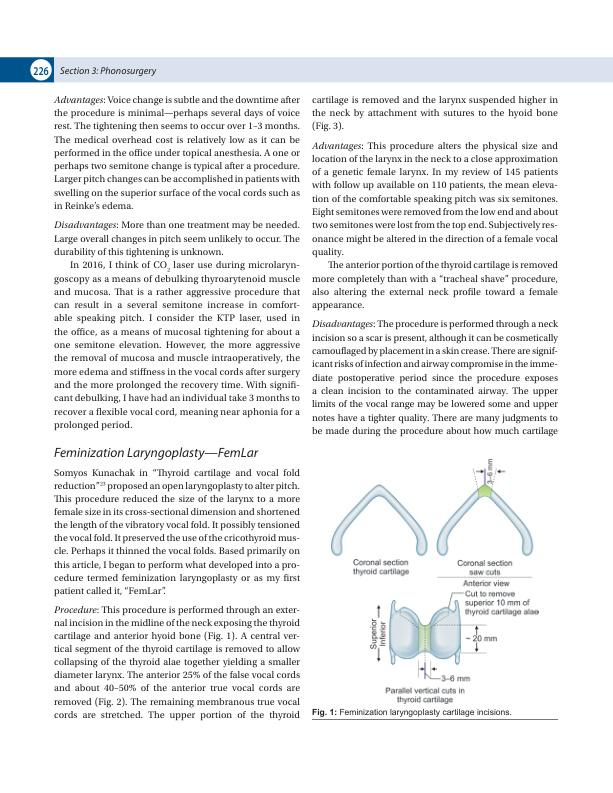caption: (311, 708, 512, 718)
header: (59, 66, 158, 77)
image: (317, 451, 549, 706)
sub-section-heading: (53, 447, 260, 461)
text: (311, 94, 559, 438), (53, 94, 301, 431), (53, 468, 301, 721)
